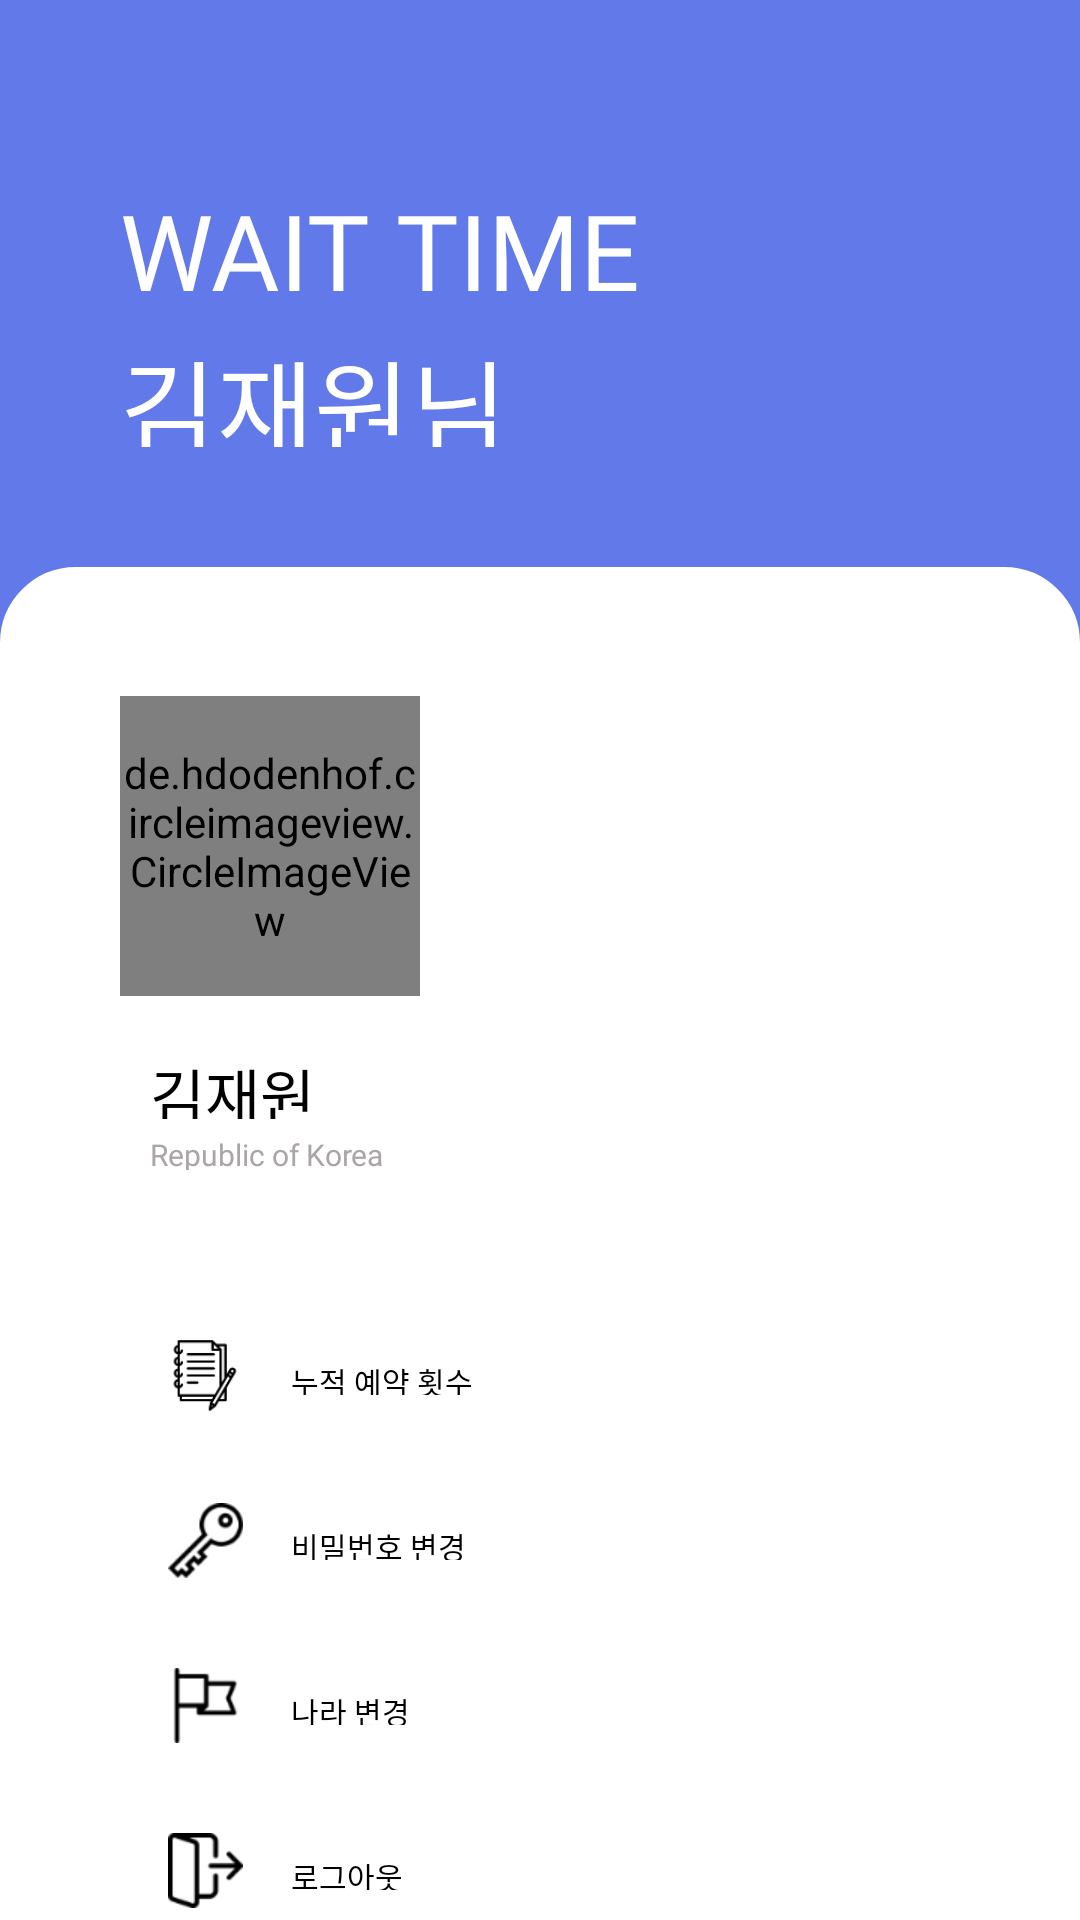

Icon bounding boxes for this 1080x1920 phone screenshot, format region(x1, y1, x2, y2):
country: region(174, 1668, 237, 1743)
exit: region(168, 1833, 243, 1908)
key: region(168, 1503, 243, 1578)
write: region(173, 1340, 237, 1411)
